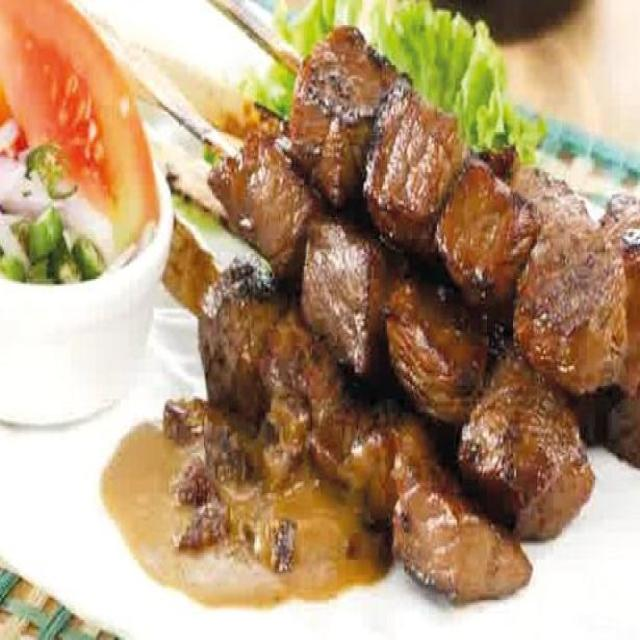Sate: (129, 5, 627, 620)
